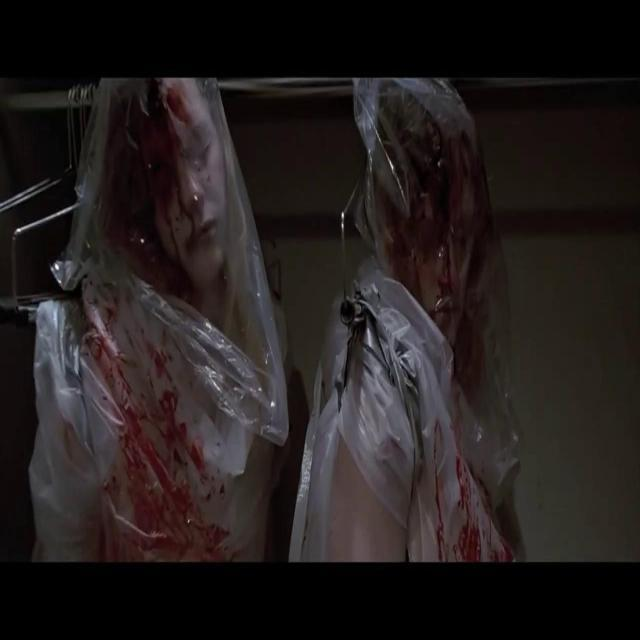flood: (39, 258, 250, 566), (394, 98, 518, 563), (80, 73, 208, 251)
